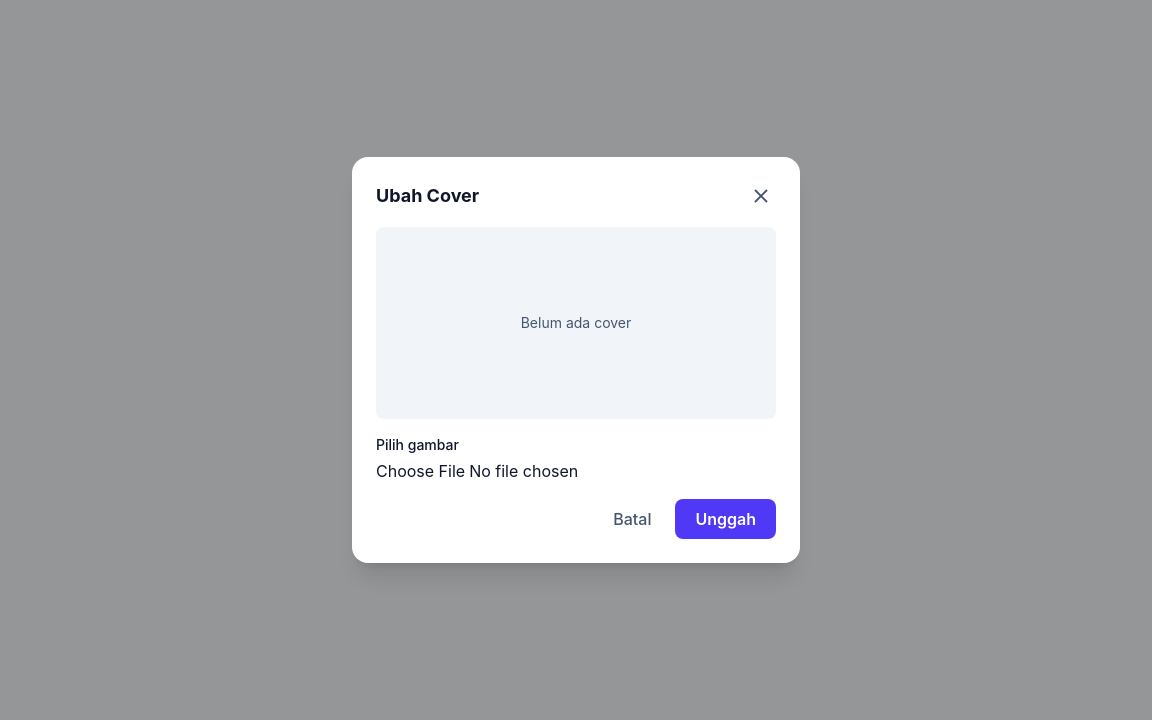
it: ChangeCoverModal › menampilkan pesan error jika menekan Unggah tanpa memilih gambar
Click the button "Unggah".
click(726, 519)  # box [675,499,776,539]
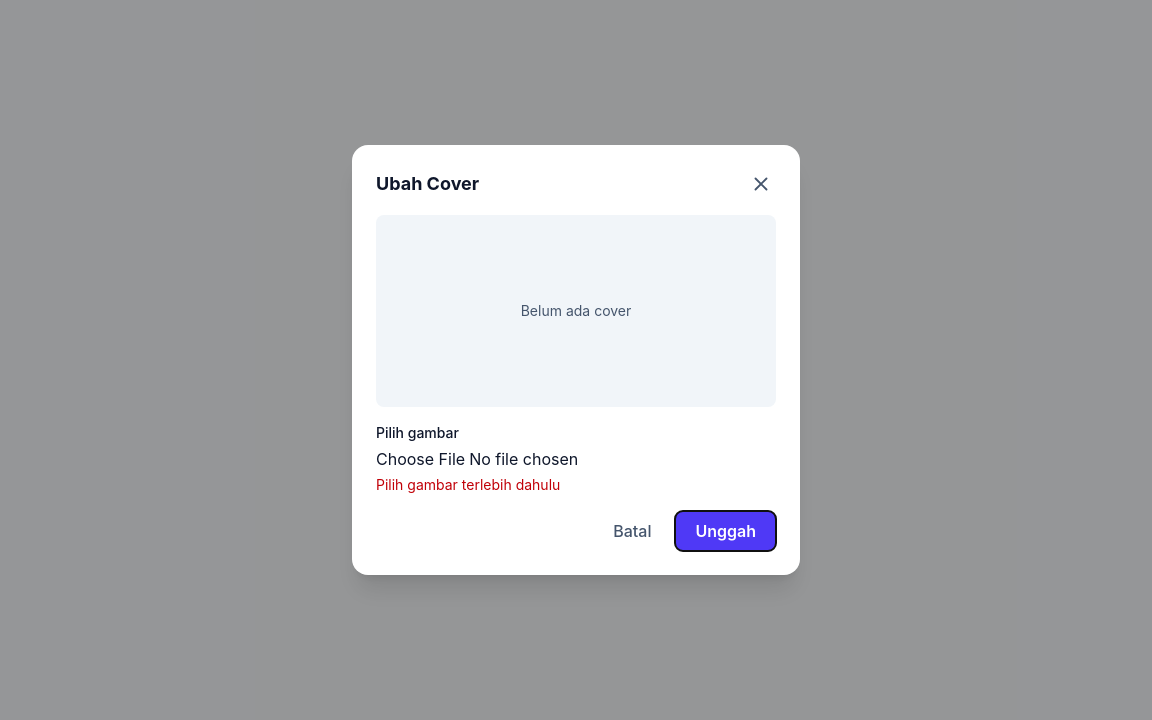
Check: the text "Pilih gambar terlebih dahulu" is shown, box [376,476,560,493]
